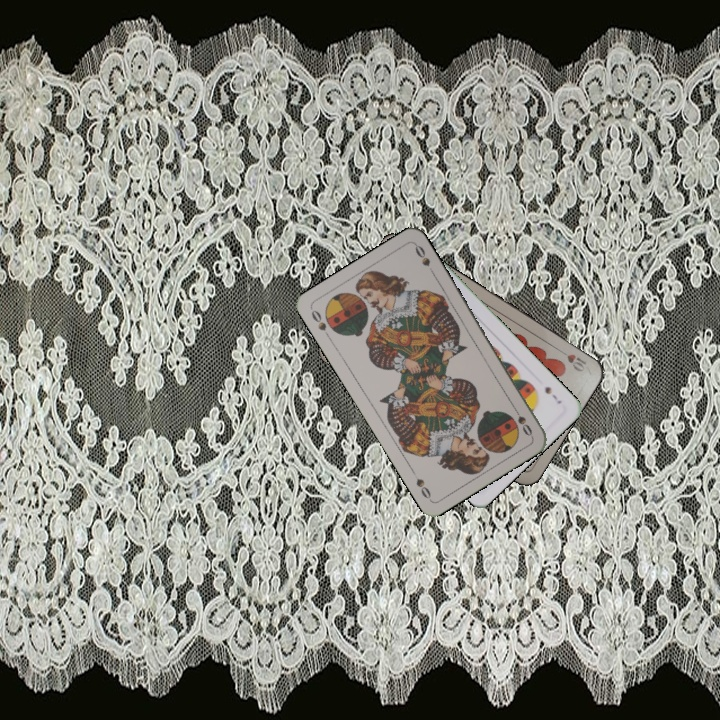H10: (554, 344, 589, 375)
S7: (540, 382, 564, 406)
SO: (509, 402, 535, 439), (307, 306, 333, 342)
